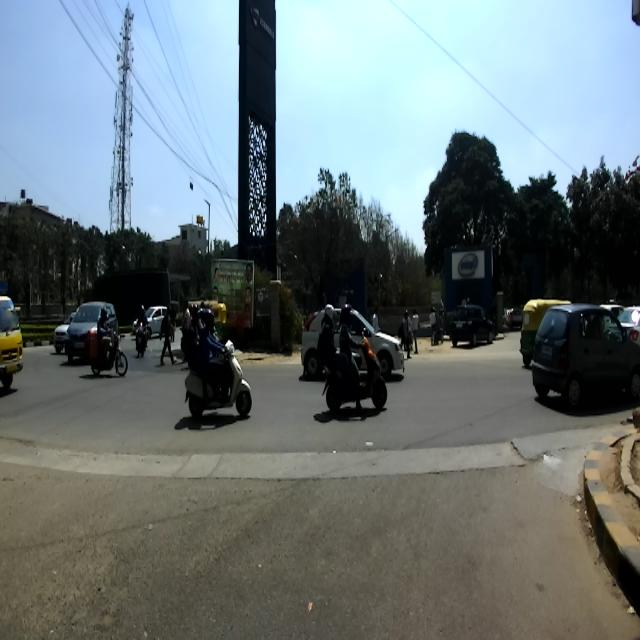motorcycle ahead at: (178, 337, 256, 425), (314, 338, 389, 417)
